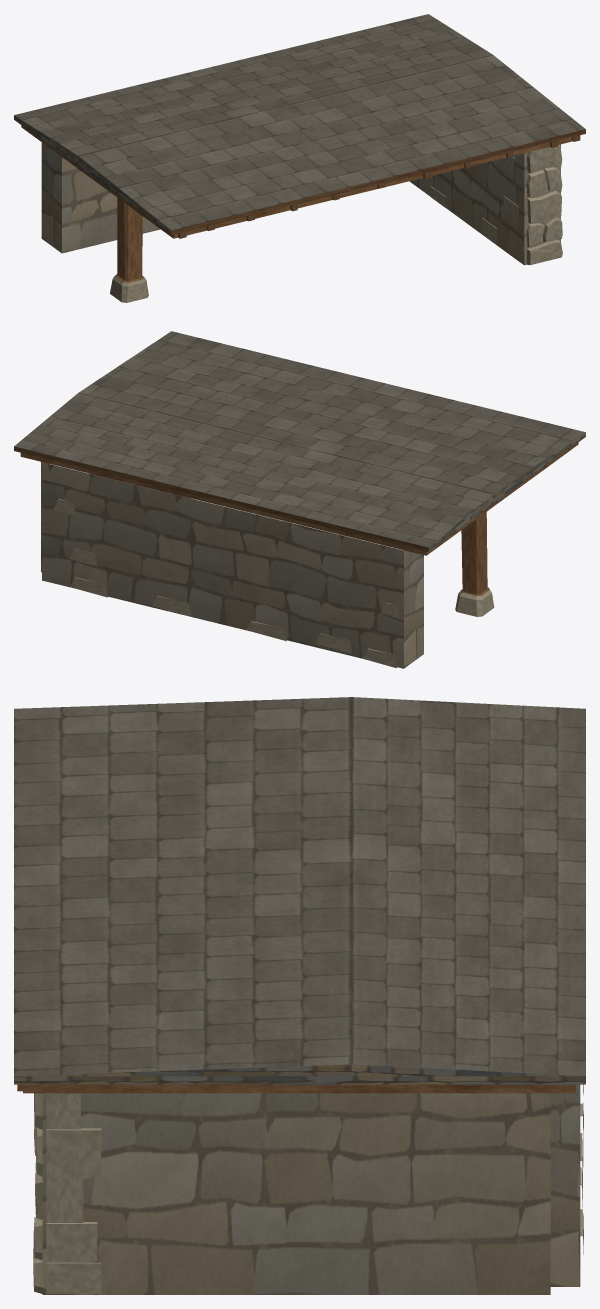
File: keeper_shelter.glb
3 renders of one model, top to bottom at view 1: azimuth 30°, elevation 25°; view 2: azimuth 150°, elevation 25°; view 3: azimuth 270°, elevation 25°, orthographic. The views are drawn at different scales.
Visible parts, largest first — view 1: SHELTER_HERO; view 2: SHELTER_HERO; view 3: SHELTER_HERO.
Boxes of the visible parts, bbox=[...] form: SHELTER_HERO: bbox=[14, 14, 585, 302]; SHELTER_HERO: bbox=[14, 331, 585, 668]; SHELTER_HERO: bbox=[14, 697, 585, 1294].
Bounding box in the file's own units: 11.4 × 3.56 × 7.5.
Materials: 2 (2 with a texture image).
